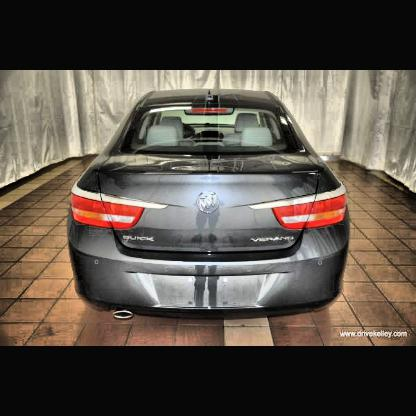Buick Verano Sedan 2012: (72, 90, 353, 323)
